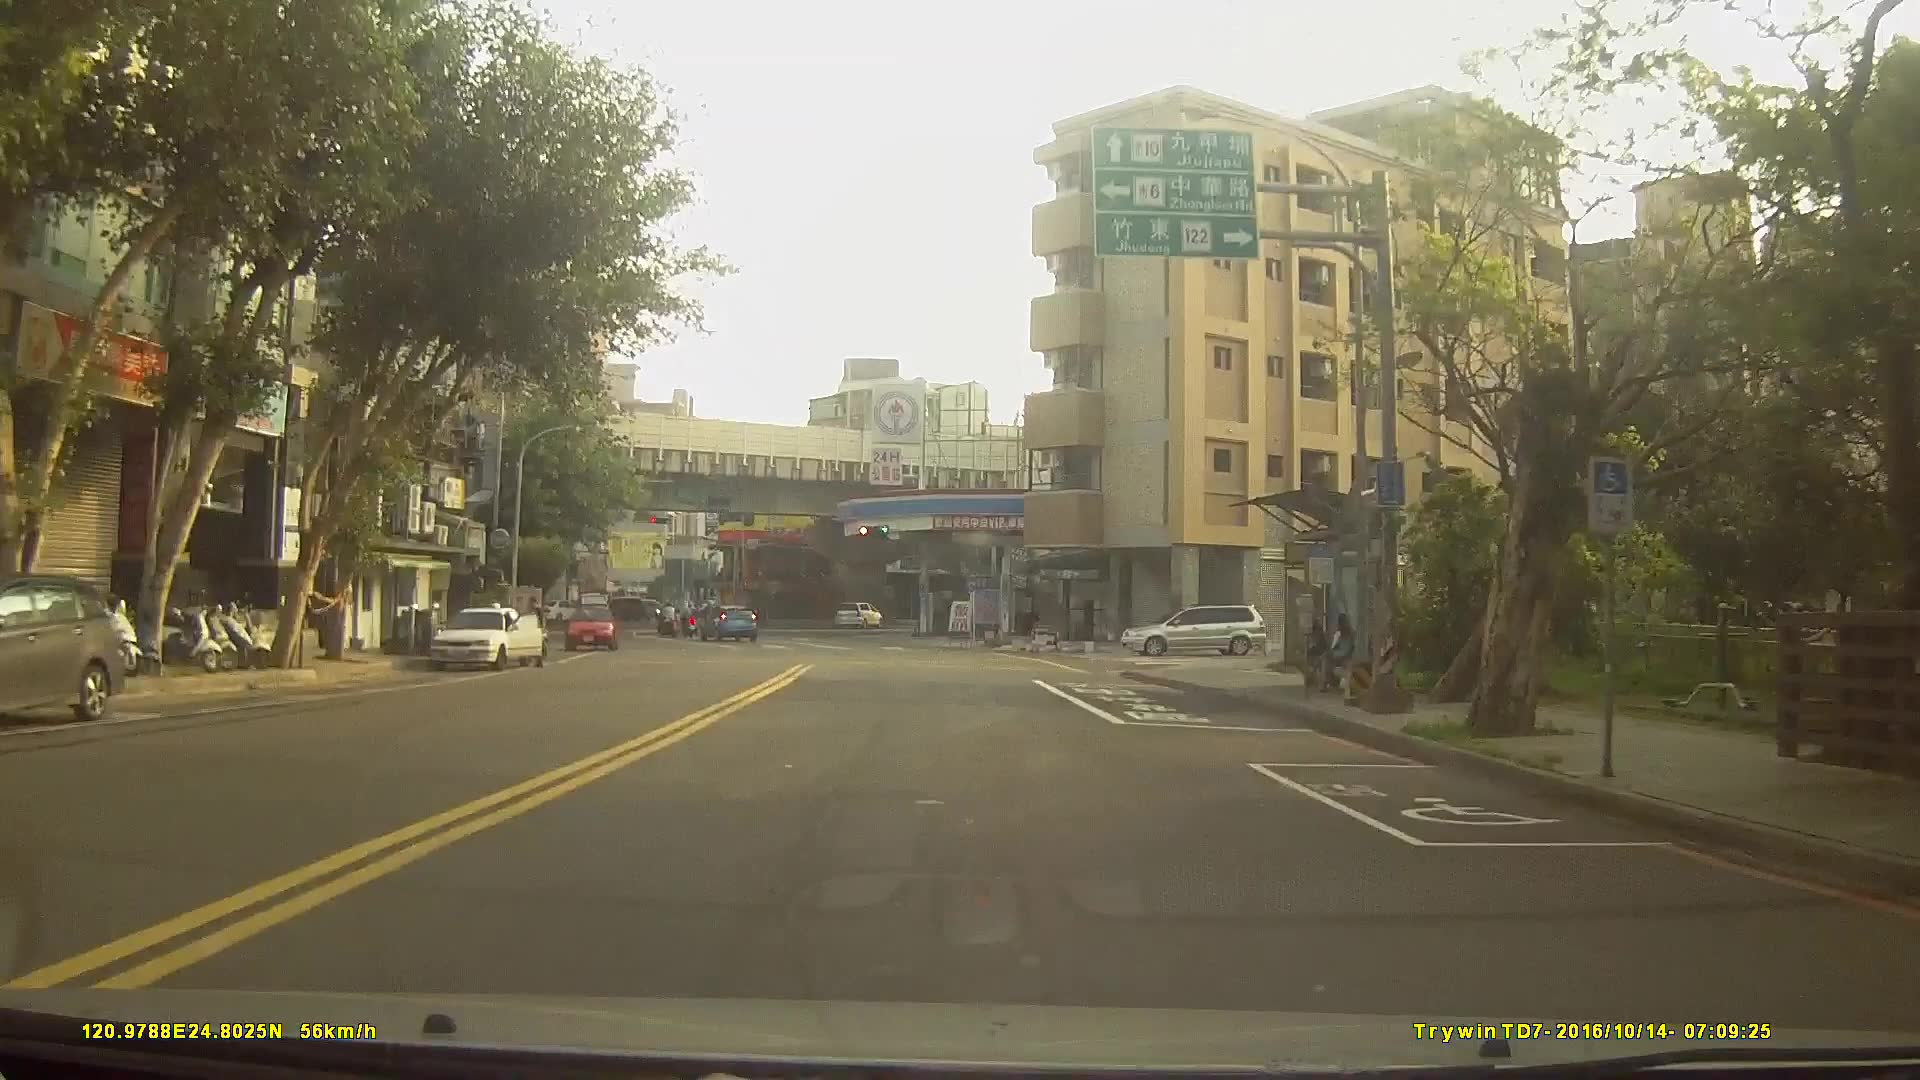pedestrian: (1325, 603, 1362, 709)
rider: (655, 600, 680, 640)
vehicle: (0, 570, 128, 720), (1122, 601, 1266, 656), (428, 602, 544, 669), (565, 600, 619, 650), (696, 600, 758, 641), (592, 593, 649, 623), (836, 600, 884, 628)
